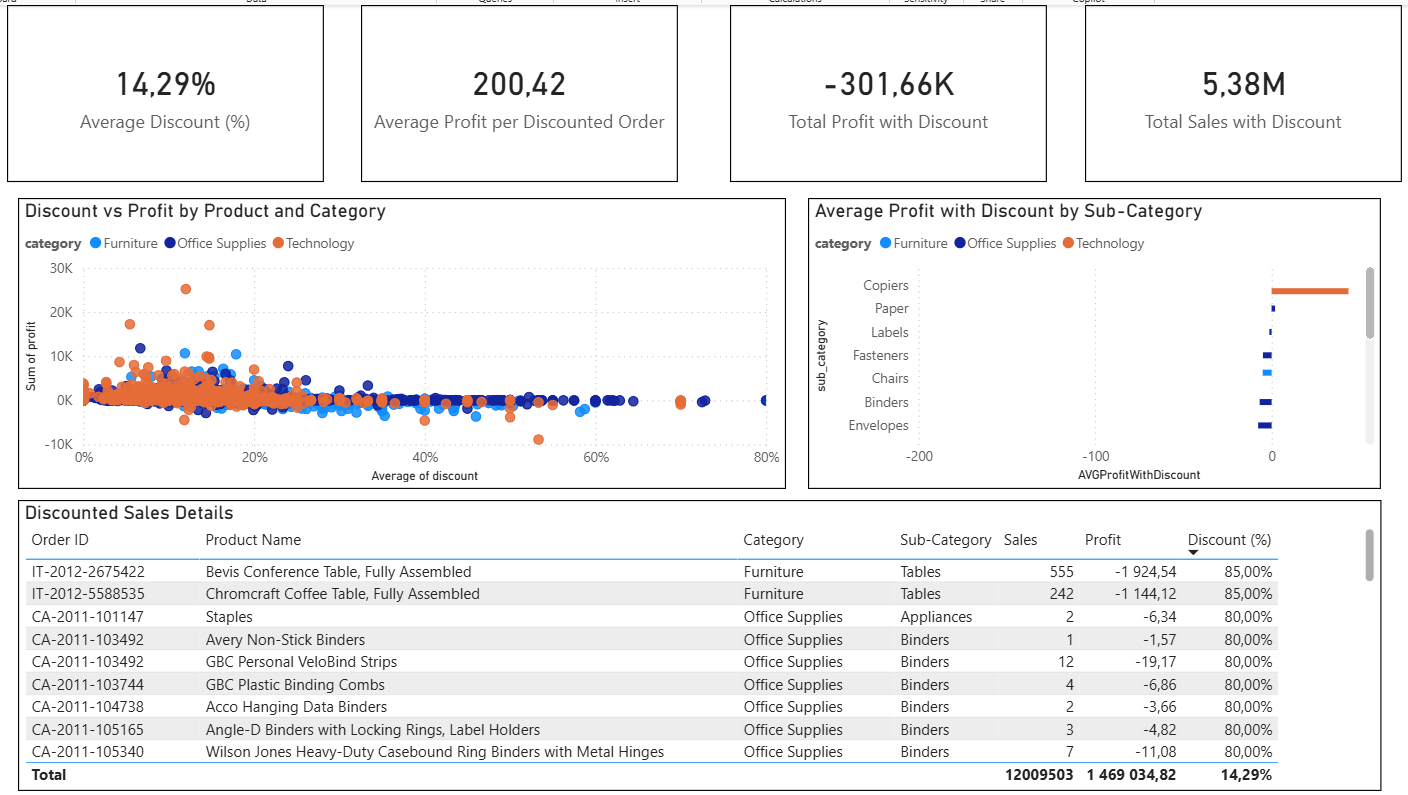

The dashboard page shown, as its layout file describes it:
{"tool":"powerbi","page":{"name":"Discount / Promotions Analysis","canvas":[1280,720],"ordinal":6},"visuals":[{"type":"card","fields":{"Values":["Avg(SuperStoreOrders.discount)"]},"box":[27.9,0,280.6,156.6],"z":0},{"type":"card","fields":{"Values":["SuperStoreOrders.AvgProfitPerDiscount"]},"box":[341.1,0,280.6,156.6],"z":1000},{"type":"card","fields":{"Values":["SuperStoreOrders.TotalSalesWithDiscount"]},"box":[668.8,0,280.6,156.6],"z":2000},{"type":"card","fields":{"Values":["SuperStoreOrders.TotalSalesWithDiscount"]},"box":[983.1,0,280.6,156.6],"z":3000},{"type":"scatterChart","title":"Discount vs Profit by Product and Category","fields":{"X":["Avg(SuperStoreOrders.discount)"],"Y":["Sum(SuperStoreOrders.profit)"],"Category":["SuperStoreOrders.product_name"],"Series":["SuperStoreOrders.category"]},"box":[37.5,171.1,681.3,258.5],"z":4000},{"type":"clusteredBarChart","title":"Average Profit with Discount by Sub-Category","fields":{"Category":["SuperStoreOrders.sub_category"],"Series":["SuperStoreOrders.category"],"Y":["SuperStoreOrders.AVGProfitWithDiscount"]},"box":[738,171.1,508.3,257.5],"z":5000},{"type":"tableEx","title":"Discounted Sales Details","fields":{"Values":["SuperStoreOrders.order_id","SuperStoreOrders.product_name","SuperStoreOrders.category","SuperStoreOrders.sub_category","Sum(SuperStoreOrders.sales)","Sum(SuperStoreOrders.profit)","Avg(SuperStoreOrders.discount)"]},"box":[37.5,439.2,1208.9,257.5],"z":6000}]}

Visuals, with their boxes in screenshot pixels (x1, y1, x2, y2):
card - Avg(SuperStoreOrders.discount): [x1=6, y1=0, x2=321, y2=176]
card - SuperStoreOrders.AvgProfitPerDiscount: [x1=358, y1=0, x2=674, y2=176]
card - SuperStoreOrders.TotalSalesWithDiscount: [x1=727, y1=0, x2=1042, y2=176]
card - SuperStoreOrders.TotalSalesWithDiscount: [x1=1080, y1=0, x2=1396, y2=176]
"Discount vs Profit by Product and Category" scatterChart: [x1=17, y1=192, x2=783, y2=483]
"Average Profit with Discount by Sub-Category" clusteredBarChart: [x1=804, y1=192, x2=1376, y2=482]
"Discounted Sales Details" tableEx: [x1=17, y1=494, x2=1376, y2=784]
